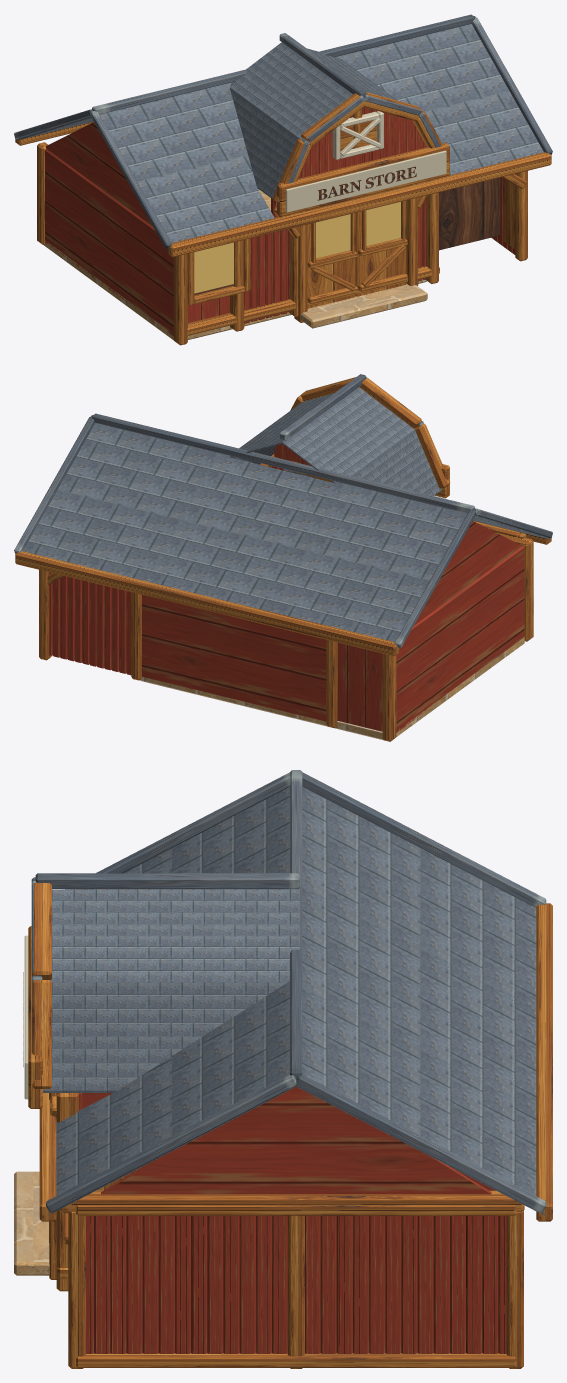
File: BarnStore_Cozy_LOD1.fbx
The picture shows the model from 3 angles, top to bottom: view 1: azimuth 30°, elevation 25°; view 2: azimuth 150°, elevation 25°; view 3: azimuth 270°, elevation 25°; orthographic projection. The views are drawn at different scales.
Visible parts, largest first — view 1: BarnStore_Cozy_LOD1; view 2: BarnStore_Cozy_LOD1; view 3: BarnStore_Cozy_LOD1.
Part boxes in pixels (x1,y1,x2,y2): BarnStore_Cozy_LOD1: [14, 14, 552, 345]; BarnStore_Cozy_LOD1: [14, 374, 552, 741]; BarnStore_Cozy_LOD1: [14, 770, 552, 1368].
Bounding box in the file's own units: 9.95 × 5.42 × 7.38.
